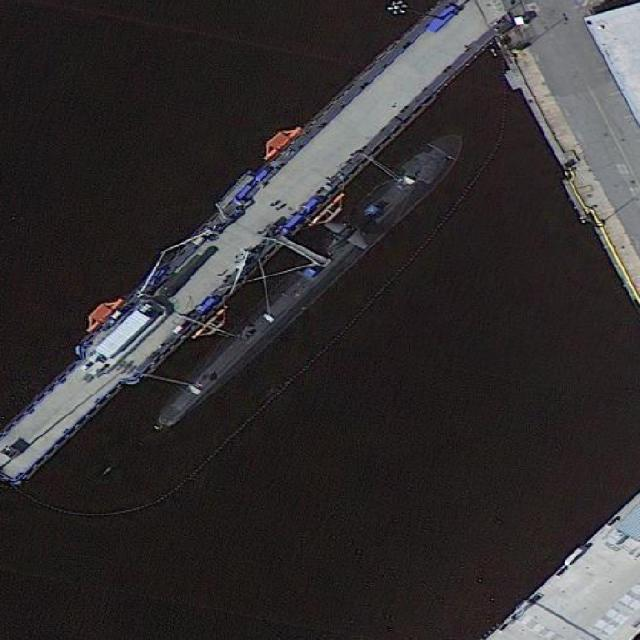Submarine: (143, 118, 475, 447)
